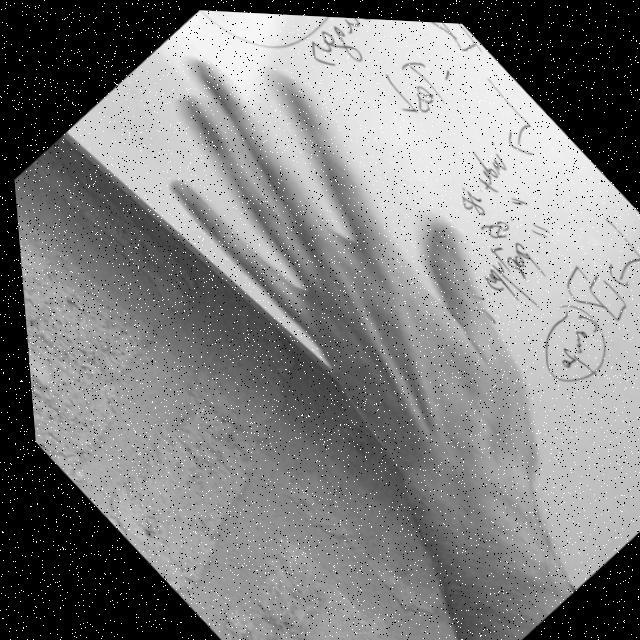no-gloves: (84, 4, 601, 522)
